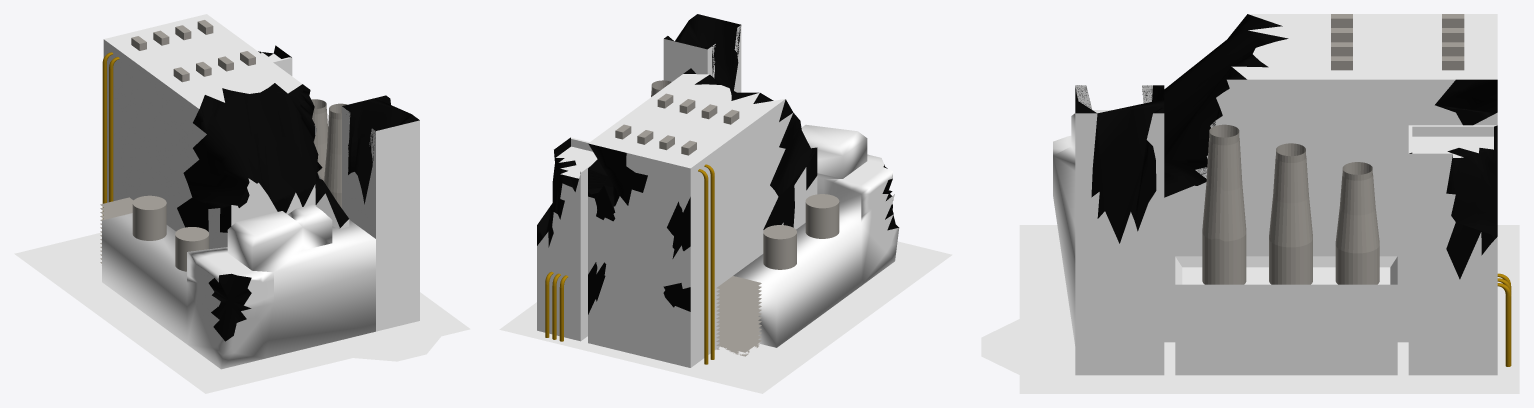
Rendered from Factory Ruined.fbx.
The picture shows the model from 3 angles, left to right: view 1: azimuth 30°, elevation 25°; view 2: azimuth 150°, elevation 25°; view 3: azimuth 270°, elevation 25°; orthographic projection. The views are drawn at different scales.
Parts seen in each view (by area): view 1: BaseBuilding, SideBuilding, Floor, BackBuilding1, Tinaco_01, Chimney_1, Tinaco_02, Chimney_2, Tube, Tube_1, BackBuilding2, Plane_01; view 2: BaseBuilding, SideBuilding, Floor, BackBuilding2, BackBuilding1, Tinaco_02, Tinaco_01, Tube, Tube_1, Plane_01; view 3: BaseBuilding, BackBuilding1, BackBase1, BackBuilding2, Floor, Chimney_1, Chimney_2, Chimney_3, SideBuilding, Tube_4.
Boxes of the visible parts, x1,y1,x2,y2 form: BaseBuilding: [103, 14, 349, 249]; SideBuilding: [102, 204, 375, 369]; Floor: [14, 232, 470, 393]; BackBuilding1: [342, 95, 419, 331]; Tinaco_01: [132, 195, 166, 240]; Chimney_1: [324, 103, 347, 208]; Tinaco_02: [175, 227, 209, 271]; Chimney_2: [311, 99, 327, 180]; Tube: [102, 63, 106, 218]; Tube_1: [109, 68, 113, 202]; BackBuilding2: [258, 45, 292, 75]; Plane_01: [100, 197, 133, 216]; BaseBuilding: [588, 68, 817, 367]; SideBuilding: [733, 124, 899, 347]; Floor: [499, 241, 952, 393]; BackBuilding2: [537, 137, 597, 341]; BackBuilding1: [663, 14, 741, 92]; Tinaco_02: [805, 194, 839, 238]; Tinaco_01: [763, 225, 796, 269]; Tube: [704, 180, 708, 364]; Tube_1: [710, 176, 714, 359]; Plane_01: [716, 276, 761, 295]; BaseBuilding: [1164, 14, 1497, 342]; BackBuilding1: [1075, 85, 1164, 375]; BackBase1: [1175, 256, 1397, 375]; BackBuilding2: [1408, 125, 1497, 375]; Floor: [981, 225, 1519, 393]; Chimney_1: [1202, 124, 1246, 284]; Chimney_2: [1269, 143, 1312, 284]; Chimney_3: [1335, 162, 1379, 284]; SideBuilding: [1053, 110, 1112, 345]; Tube_4: [1505, 295, 1511, 366].
Size of the model in its own units: 1800 by 1350 by 2423.
